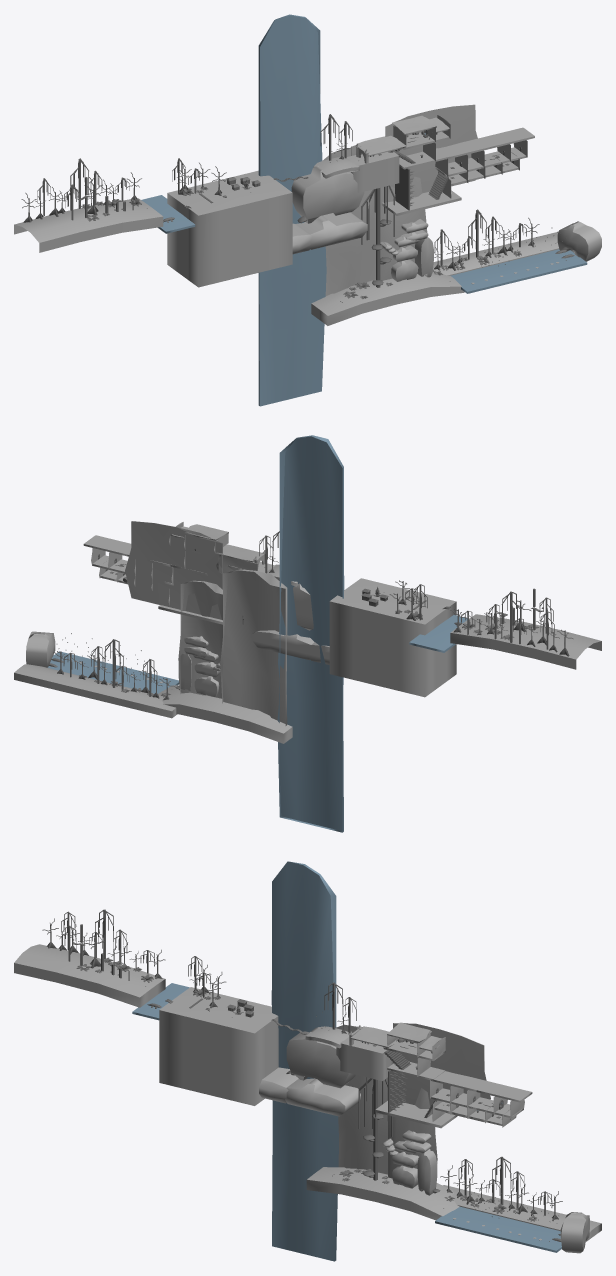
The model's file is LevelLayout_DareahRoberts.fbx.
3 views of the same model, one above another, from view 1: azimuth 30°, elevation 25°; view 2: azimuth 150°, elevation 25°; view 3: azimuth 330°, elevation 25° (orthographic).
Visible parts, largest first — view 1: Ground9, Ground2, Ground1, Ground4, Ground5, CaveWallls1, Ground7, Ground14, Ground8, CaveWallls, Ground6, Ground12 (+11 smaller); view 2: Ground9, Ground2, Ground5, Ground14, Ground1, Ground8, Ground4, Ground6, Ground7, CaveWallls, Ground3, CaveWallls12 (+2 smaller); view 3: Ground9, Ground2, Ground1, Ground4, Ground5, Ground14, Ground7, CaveWallls1, CaveWallls, Ground8, Ground12, Ground6 (+12 smaller).
Boxes of the visible parts, x1,y1,x2,y2 form: Ground9: (258,14,326,406); Ground2: (167,170,292,287); Ground1: (14,198,163,252); Ground4: (311,271,464,325); Ground5: (322,147,375,295); CaveWallls1: (291,166,364,223); Ground7: (450,249,587,293); Ground14: (385,104,477,201); Ground8: (433,231,559,275); CaveWallls: (295,212,367,249); Ground6: (380,176,427,280); Ground12: (346,151,399,192); Ground9: (277,435,344,832); Ground2: (329,578,456,697); Ground5: (220,569,287,725); Ground14: (125,521,222,619); Ground1: (450,614,601,669); Ground8: (14,664,176,718); Ground4: (158,685,292,743); Ground6: (178,580,222,698); Ground7: (47,651,179,693); CaveWallls: (252,630,314,660); Ground3: (409,615,467,652); CaveWallls12: (26,631,55,667); Ground9: (271,861,338,1261); Ground2: (159,987,278,1105); Ground1: (14,944,165,1007); Ground4: (306,1167,459,1220); Ground5: (335,1024,388,1174); Ground14: (393,1023,490,1122); Ground7: (435,1206,561,1252); CaveWallls1: (286,1027,355,1088); CaveWallls: (285,1078,360,1116); Ground8: (443,1185,601,1241); Ground12: (336,1037,393,1080); Ground6: (387,1077,437,1188).
Bounding box in the file's own units: 513 × 335 × 66.12.
